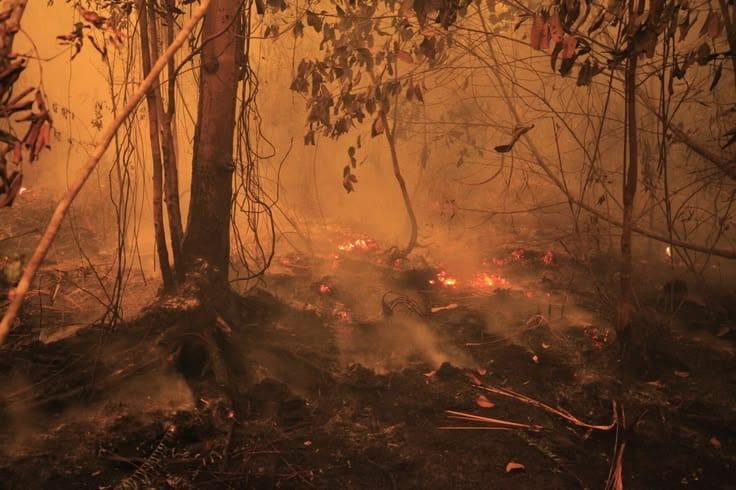Deteksi-Objek-Citra-Berasap: (0, 24, 736, 411)
Titik Api: (307, 224, 402, 270), (422, 241, 458, 307), (470, 261, 518, 297)
Vegetasi: (48, 0, 334, 413), (477, 0, 736, 367), (0, 0, 189, 338), (292, 0, 482, 263)
